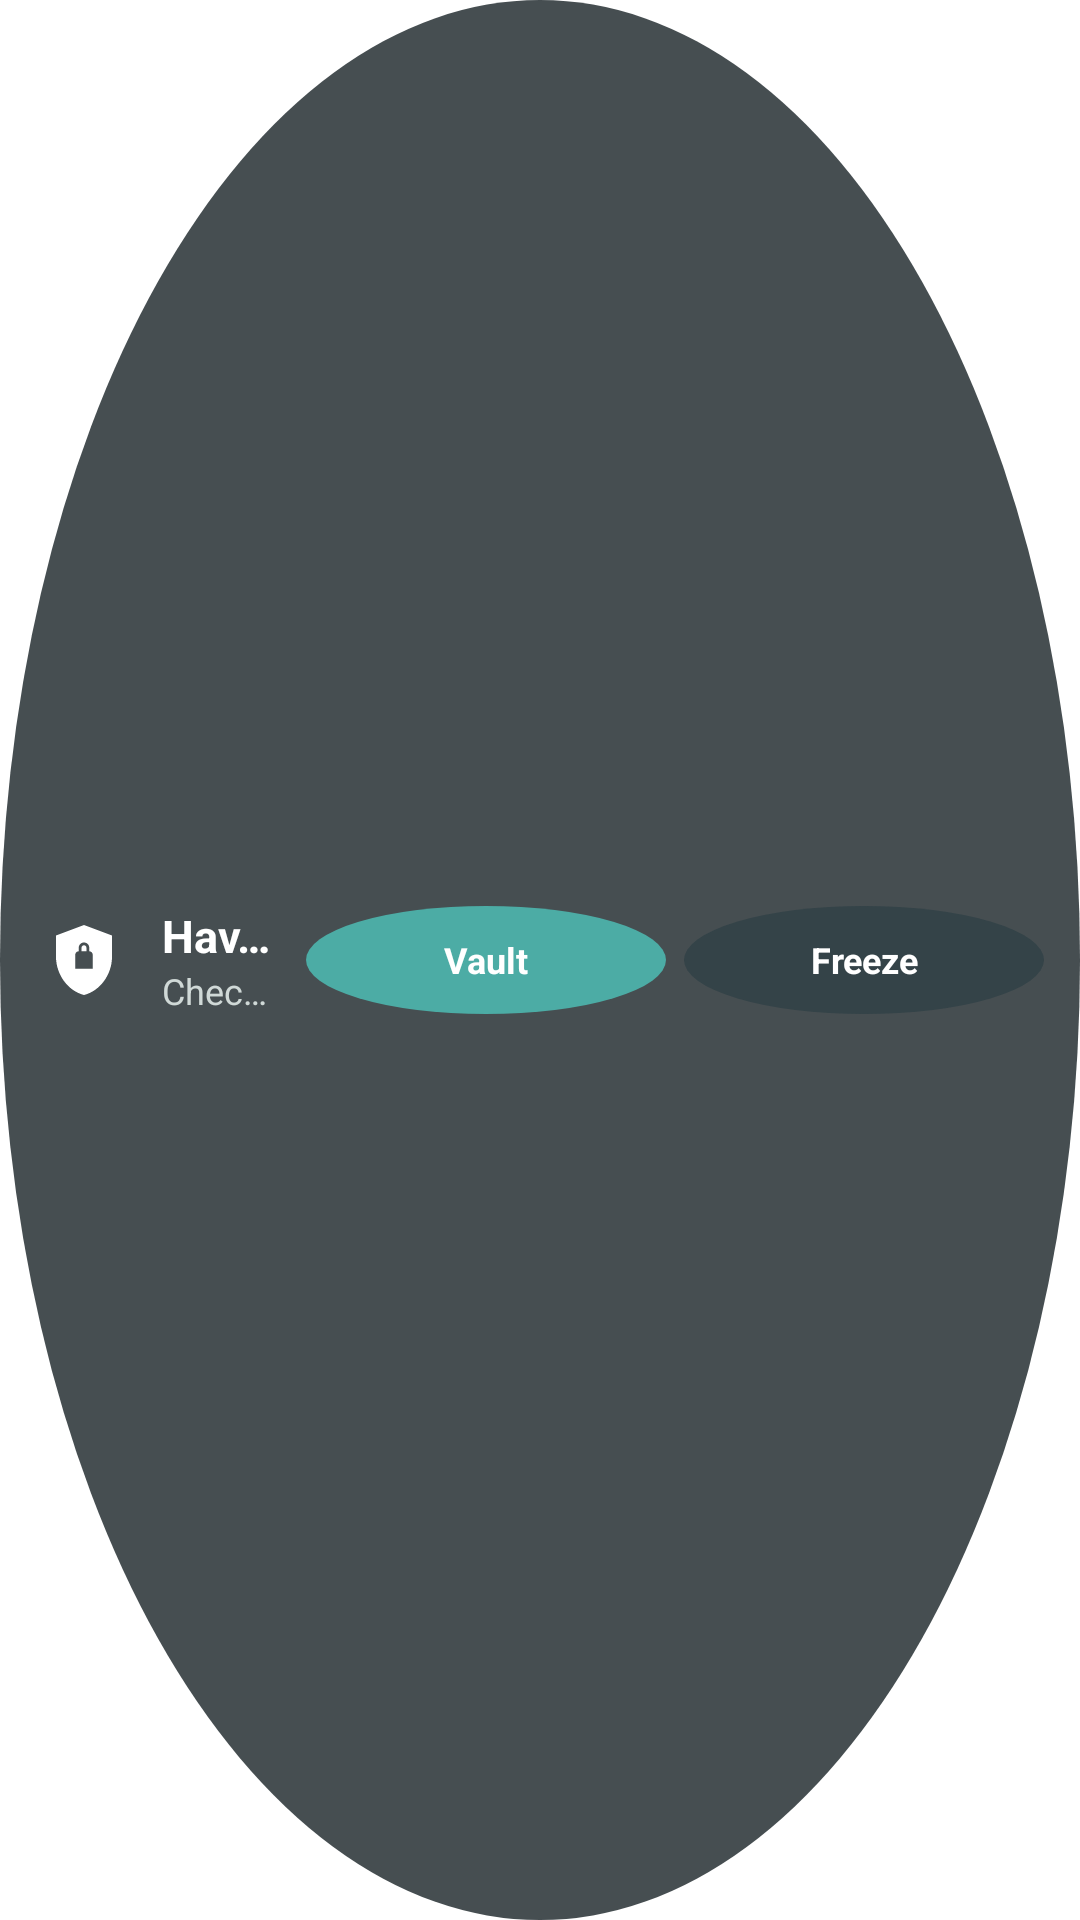

Icon bounding boxes for this 1080×1920 phone screenshot, format (x1, y1, x2, y2):
vault shield: (56, 925, 112, 995)
